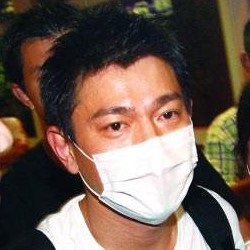mask: (73, 121, 199, 227)
